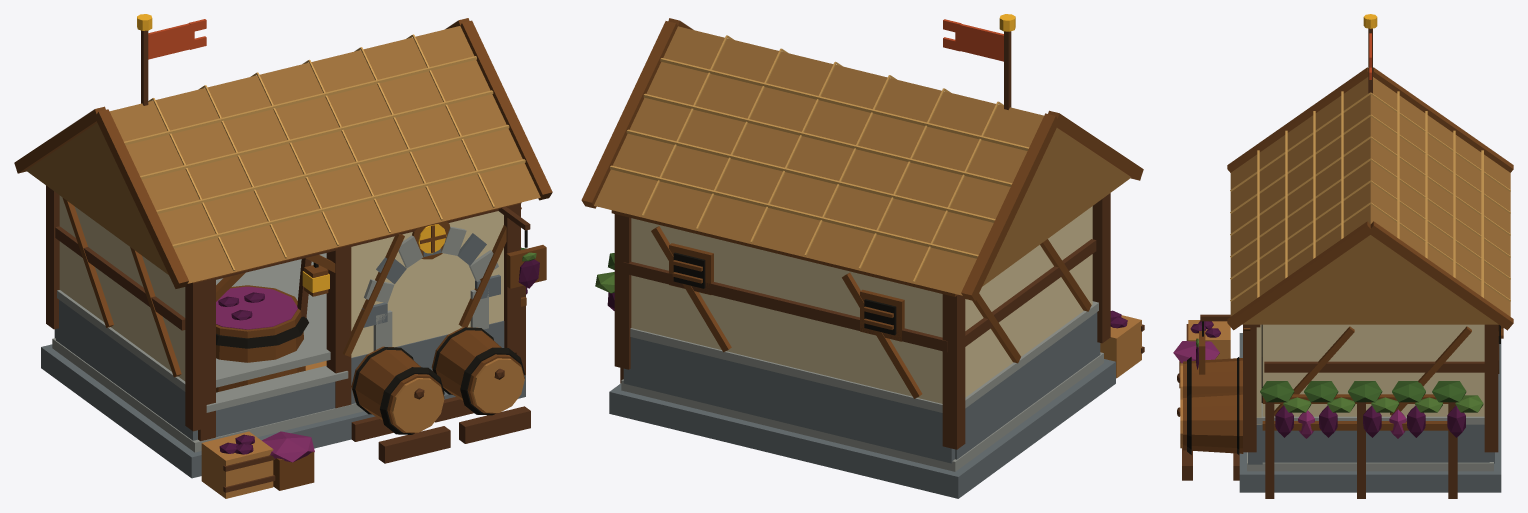
File: vineyard.glb
The picture shows the model from 3 angles, left to right: view 1: azimuth 30°, elevation 25°; view 2: azimuth 150°, elevation 25°; view 3: azimuth 270°, elevation 25°; orthographic projection. The views are drawn at different scales.
Parts seen in each view (by area): view 1: Roof, Left wall brace, Left wall rail, Plaster wall.001, Vineyard plinth, Arch voussoir.005, Tile seam.006, Vat step, Vat band.001, Basket grapes, Floating grapes.002, Pennant (+1 smaller); view 2: Roof, Vineyard plinth, Plaster wall.001, Left wall brace, Left wall rail, Tile seam.006, Arch voussoir.005, Pennant, Vat step, Vat band.001; view 3: Roof, Left wall brace, Vineyard plinth, Plaster wall.001, Left wall rail, Tile seam.006, Vine leaf.008, Arch voussoir.005, Floating grapes.002, Vine leaf.009, Basket grapes, Vat step (+1 smaller).
Boxes of the visible parts, <box> form: Roof: <box>26,26,540,283</box>; Left wall brace: <box>14,18,552,490</box>; Left wall rail: <box>46,30,530,492</box>; Plaster wall.001: <box>59,195,503,381</box>; Vineyard plinth: <box>41,233,525,478</box>; Arch voussoir.005: <box>52,226,498,452</box>; Tile seam.006: <box>124,34,525,270</box>; Vat step: <box>201,358,524,498</box>; Vat band.001: <box>216,230,527,434</box>; Basket grapes: <box>216,286,314,462</box>; Floating grapes.002: <box>218,259,539,454</box>; Pennant: <box>148,19,206,59</box>; Roof: <box>594,26,1131,295</box>; Vineyard plinth: <box>609,312,1115,498</box>; Plaster wall.001: <box>631,206,1092,403</box>; Left wall brace: <box>581,18,1143,398</box>; Left wall rail: <box>614,31,1144,449</box>; Tile seam.006: <box>610,35,1029,282</box>; Arch voussoir.005: <box>621,301,1103,471</box>; Pennant: <box>943,19,1003,61</box>; Vat step: <box>1100,315,1141,378</box>; Vat band.001: <box>673,252,896,335</box>; Roof: <box>1230,77,1510,324</box>; Left wall brace: <box>1179,67,1513,453</box>; Vineyard plinth: <box>1239,333,1501,492</box>; Plaster wall.001: <box>1256,324,1484,424</box>; Left wall rail: <box>1177,28,1498,498</box>; Tile seam.006: <box>1230,91,1510,301</box>; Vine leaf.008: <box>1260,381,1466,402</box>; Arch voussoir.005: <box>1247,403,1493,471</box>; Floating grapes.002: <box>1190,321,1465,437</box>; Vine leaf.009: <box>1196,338,1483,412</box>; Basket grapes: <box>1173,341,1406,438</box>; Vat step: <box>1180,320,1230,448</box>.
Size of the model in its own units: 4.2 by 4.18 by 3.72.
